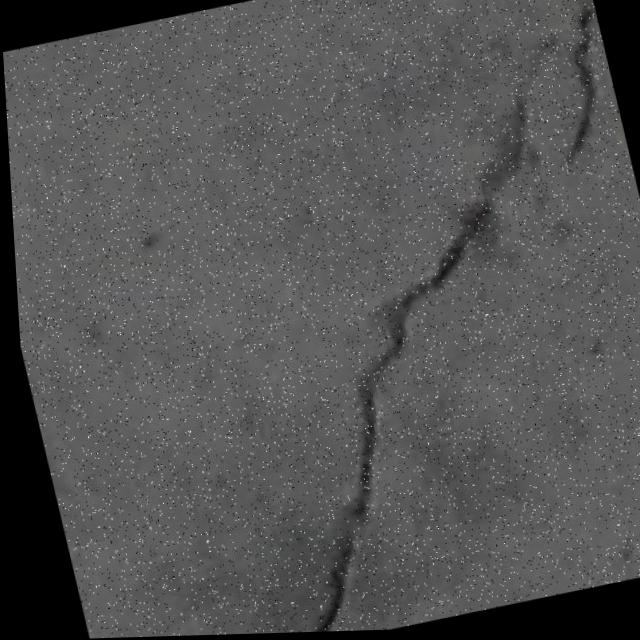Crack: (151, 0, 640, 636)
